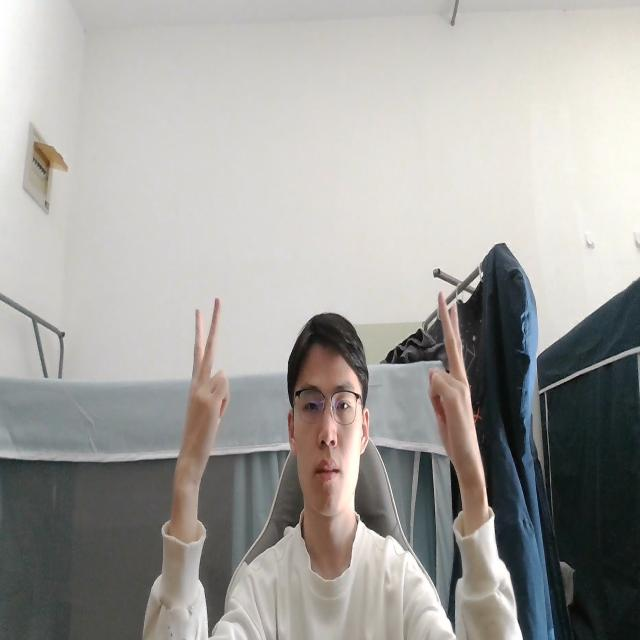yes: (422, 284, 486, 498), (172, 288, 233, 495)
